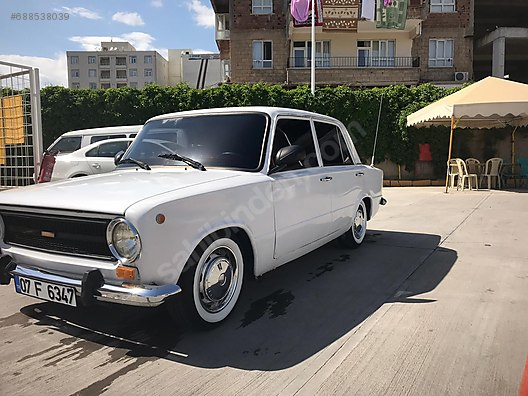murat: (1, 106, 384, 326)
